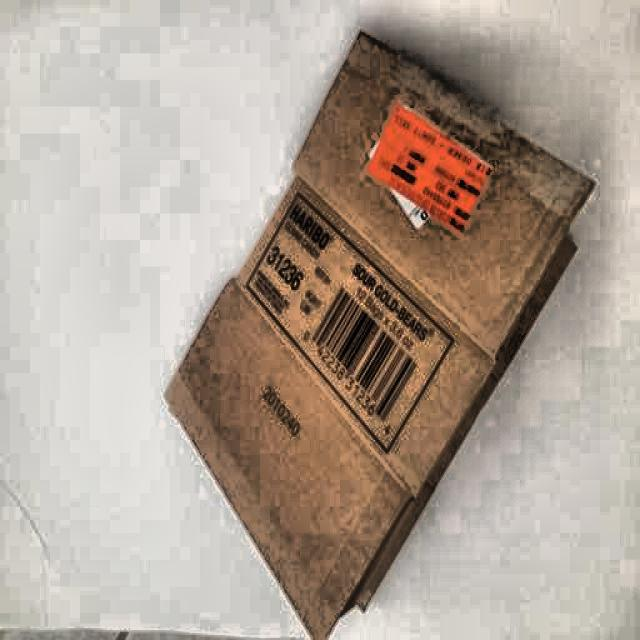cardboard: (162, 24, 595, 636)
